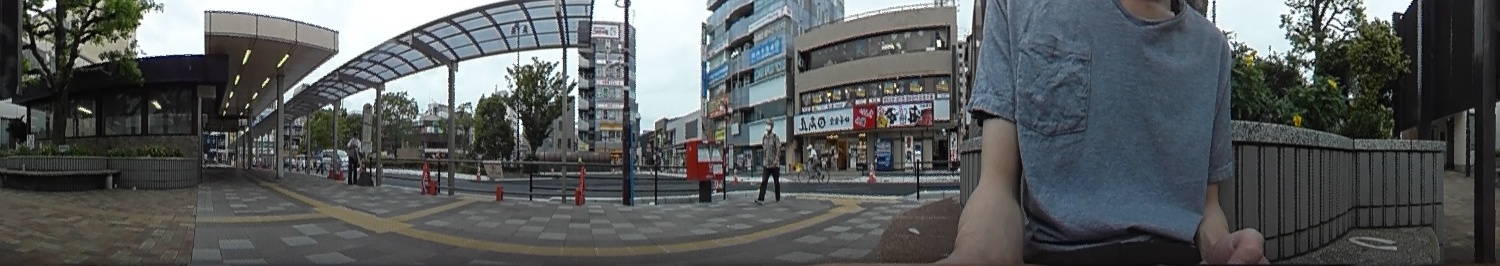difficult_person: (346, 131, 362, 182), (804, 142, 820, 179)
person: (756, 113, 781, 205)
